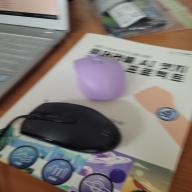mouse: (20, 101, 123, 154), (72, 53, 127, 101)
